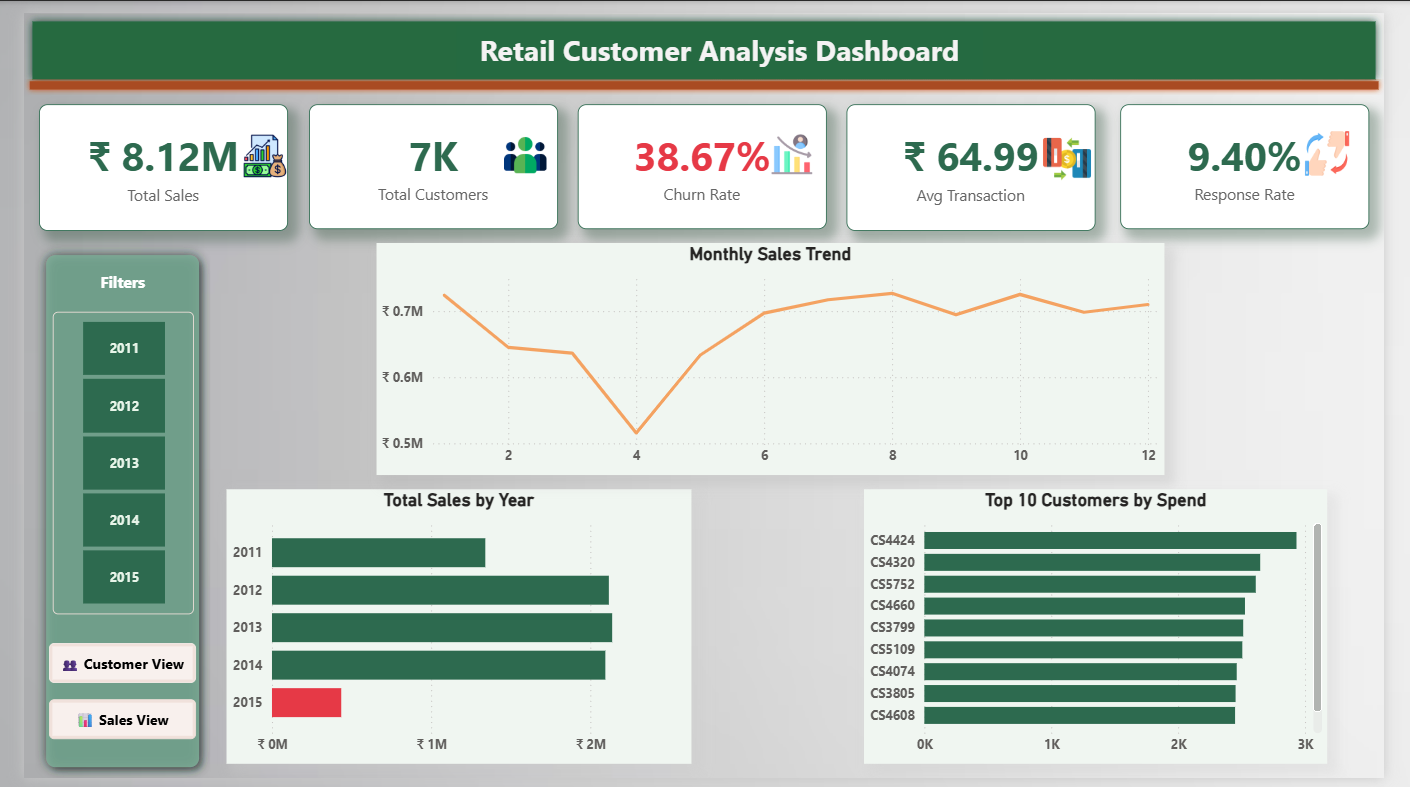

What the dashboard file says about the page in this screenshot:
{"tool":"powerbi","page":{"name":"Dashboard","canvas":[1280,720],"ordinal":0},"visuals":[{"type":"shape","box":[10.2,217.8,164.5,502.5],"z":0},{"type":"shape","box":[0,0,1280,70.6],"z":1000},{"type":"textbox","box":[407,11.6,495.4,47.7],"z":2000},{"type":"shape","box":[0,59.3,1280.2,18.6],"z":3000},{"type":"cardVisual","fields":{"Data":["clean_customer_summary.Total Sales"]},"box":[13.6,86.2,234.8,119.1],"z":4000},{"type":"cardVisual","fields":{"Data":["clean_customer_summary.Total Customers"]},"box":[268.8,86.2,234.8,118],"z":5000},{"type":"cardVisual","fields":{"Data":["clean_customer_summary.Response Rate"]},"box":[1032.1,86.2,234.8,118],"z":6000},{"type":"cardVisual","fields":{"Data":["clean_customer_summary.Churn Rate"]},"box":[521.7,86.2,234.8,118],"z":7000},{"type":"cardVisual","fields":{"Data":["clean_customer_summary.Avg Transaction"]},"box":[773.5,86.2,234.8,119.1],"z":8000},{"type":"clusteredBarChart","title":"Total Sales by Year","fields":{"Category":["clean_transactions.trans_year"],"Y":["clean_customer_summary.Total Sales"]},"box":[190,448.8,437.5,258.8],"z":9000},{"type":"lineChart","title":"Monthly Sales Trend","fields":{"Category":["clean_transactions.trans_month"],"Y":["clean_customer_summary.Total Sales"]},"box":[331.2,216.2,741.2,218.8],"z":10000},{"type":"clusteredBarChart","title":"Top 10 Customers by Spend","fields":{"Y":["Sum(clean_customer_summary.total_spent)"],"Category":["clean_customer_summary.customer_id"]},"box":[790,448.8,436.2,258.8],"z":11000},{"type":"donutChart","fields":{"Category":["clean_customer_summary.Churn Status"],"Y":["clean_customer_summary.Total Customers"]},"box":[790,448.8,438.8,258.8],"z":12000},{"type":"donutChart","title":"Campaign Response Rate","fields":{"Y":["CountNonNull(clean_response.customer_id)"],"Category":["clean_response.Response Label"]},"box":[187.5,448.8,438.8,258.8],"z":13000},{"type":"actionButton","box":[23.8,645.4,138.4,37.4],"z":14000},{"type":"slicer","fields":{"Values":["clean_transactions.trans_year"]},"box":[27.2,281.3,132.7,284.7],"z":15000},{"type":"actionButton","box":[23.8,593.2,138.4,37.4],"z":16000},{"type":"textbox","box":[57.8,238.2,70.3,30.6],"z":17000},{"type":"image","box":[204.2,114.6,44.2,40.8],"z":17001},{"type":"image","box":[451.4,112.3,39.7,44.2],"z":17002},{"type":"image","box":[702.1,112.3,40.8,42],"z":17003},{"type":"image","box":[955,114.6,53.3,46.5],"z":17004},{"type":"image","box":[1200,111.2,53.3,43.1],"z":17005}]}

Visuals, with their boxes in screenshot pixels (x1, y1, x2, y2), scaled from the page's 1280x720 canvas onto the 1410x787 screenshot:
shape: pyautogui.locateOnScreen(11, 238, 192, 786)
shape: pyautogui.locateOnScreen(0, 0, 1409, 77)
textbox: pyautogui.locateOnScreen(448, 13, 994, 65)
shape: pyautogui.locateOnScreen(0, 65, 1409, 85)
cardVisual - clean_customer_summary.Total Sales: pyautogui.locateOnScreen(15, 94, 274, 224)
cardVisual - clean_customer_summary.Total Customers: pyautogui.locateOnScreen(296, 94, 555, 223)
cardVisual - clean_customer_summary.Response Rate: pyautogui.locateOnScreen(1137, 94, 1396, 223)
cardVisual - clean_customer_summary.Churn Rate: pyautogui.locateOnScreen(575, 94, 833, 223)
cardVisual - clean_customer_summary.Avg Transaction: pyautogui.locateOnScreen(852, 94, 1111, 224)
"Total Sales by Year" clusteredBarChart: pyautogui.locateOnScreen(209, 491, 691, 773)
"Monthly Sales Trend" lineChart: pyautogui.locateOnScreen(365, 236, 1181, 475)
"Top 10 Customers by Spend" clusteredBarChart: pyautogui.locateOnScreen(870, 491, 1351, 773)
donutChart - clean_customer_summary.Churn Status x clean_customer_summary.Total Customers: pyautogui.locateOnScreen(870, 491, 1354, 773)
"Campaign Response Rate" donutChart: pyautogui.locateOnScreen(207, 491, 690, 773)
actionButton: pyautogui.locateOnScreen(26, 705, 179, 746)
slicer - clean_transactions.trans_year: pyautogui.locateOnScreen(30, 307, 176, 619)
actionButton: pyautogui.locateOnScreen(26, 648, 179, 689)
textbox: pyautogui.locateOnScreen(64, 260, 141, 294)
image: pyautogui.locateOnScreen(225, 125, 274, 170)
image: pyautogui.locateOnScreen(497, 123, 541, 171)
image: pyautogui.locateOnScreen(773, 123, 818, 169)
image: pyautogui.locateOnScreen(1052, 125, 1111, 176)
image: pyautogui.locateOnScreen(1322, 122, 1381, 169)
